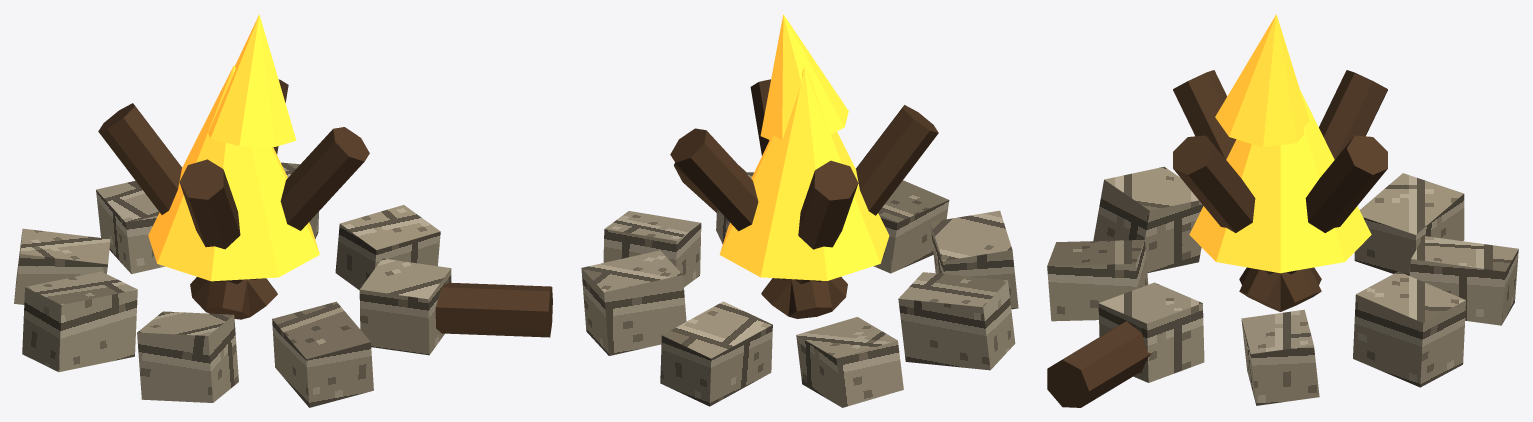
The model's file is campfire_t1.glb.
3 renders of one model, left to right at view 1: azimuth 30°, elevation 25°; view 2: azimuth 150°, elevation 25°; view 3: azimuth 270°, elevation 25°, orthographic. The views are drawn at different scales.
Parts seen in each view (by area): view 1: flame_placeholder, stone_ring_04, stone_ring_05, stone_ring_06, stone_ring_07, flame_tip, log_fallen, stone_ring_00, log_01, log_03, stone_ring_03, stone_ring_02 (+2 smaller); view 2: flame_placeholder, stone_ring_04, stone_ring_02, stone_ring_01, stone_ring_03, log_02, log_00, stone_ring_05, flame_tip, stone_ring_00, stone_ring_06, log_01 (+2 smaller); view 3: flame_placeholder, stone_ring_01, stone_ring_05, stone_ring_03, flame_tip, stone_ring_02, stone_ring_07, stone_ring_06, stone_ring_00, log_fallen, log_03, log_00 (+2 smaller).
Part boxes in pixels (left/top/right/bottom): flame_placeholder: left=148, top=65, right=319, bottom=281; stone_ring_04: left=22, top=271, right=137, bottom=371; stone_ring_05: left=137, top=311, right=238, bottom=402; stone_ring_06: left=272, top=301, right=373, bottom=407; stone_ring_07: left=359, top=258, right=451, bottom=355; flame_tip: left=208, top=14, right=296, bottom=146; log_fallen: left=435, top=282, right=552, bottom=337; stone_ring_00: left=335, top=205, right=440, bottom=289; log_01: left=98, top=103, right=277, bottom=316; log_03: left=190, top=127, right=369, bottom=311; stone_ring_03: left=14, top=228, right=110, bottom=304; stone_ring_02: left=96, top=180, right=164, bottom=273; flame_placeholder: left=719, top=67, right=889, bottom=280; stone_ring_04: left=898, top=272, right=1015, bottom=370; stone_ring_02: left=660, top=301, right=772, bottom=406; stone_ring_01: left=581, top=250, right=686, bottom=355; stone_ring_03: left=796, top=317, right=903, bottom=407; log_02: left=761, top=105, right=938, bottom=316; log_00: left=670, top=128, right=847, bottom=311; stone_ring_05: left=930, top=210, right=1018, bottom=309; flame_tip: left=760, top=14, right=848, bottom=140; stone_ring_00: left=603, top=211, right=701, bottom=287; stone_ring_06: left=873, top=180, right=949, bottom=273; log_01: left=795, top=160, right=858, bottom=284; flame_placeholder: left=1189, top=90, right=1371, bottom=273; stone_ring_01: left=1353, top=271, right=1465, bottom=387; stone_ring_05: left=1093, top=166, right=1203, bottom=272; stone_ring_03: left=1354, top=173, right=1464, bottom=275; flame_tip: left=1215, top=14, right=1309, bottom=147; stone_ring_02: left=1409, top=236, right=1518, bottom=325; stone_ring_07: left=1098, top=282, right=1204, bottom=382; stone_ring_06: left=1047, top=240, right=1148, bottom=321; stone_ring_00: left=1241, top=309, right=1319, bottom=405; log_fallen: left=1047, top=321, right=1151, bottom=407; log_03: left=1173, top=135, right=1321, bottom=299; log_00: left=1239, top=135, right=1387, bottom=299.
Size of what is drawn, in the model's own units: 0.9394 by 0.6438 by 0.8794.
Materials: 3 (1 with a texture image).
